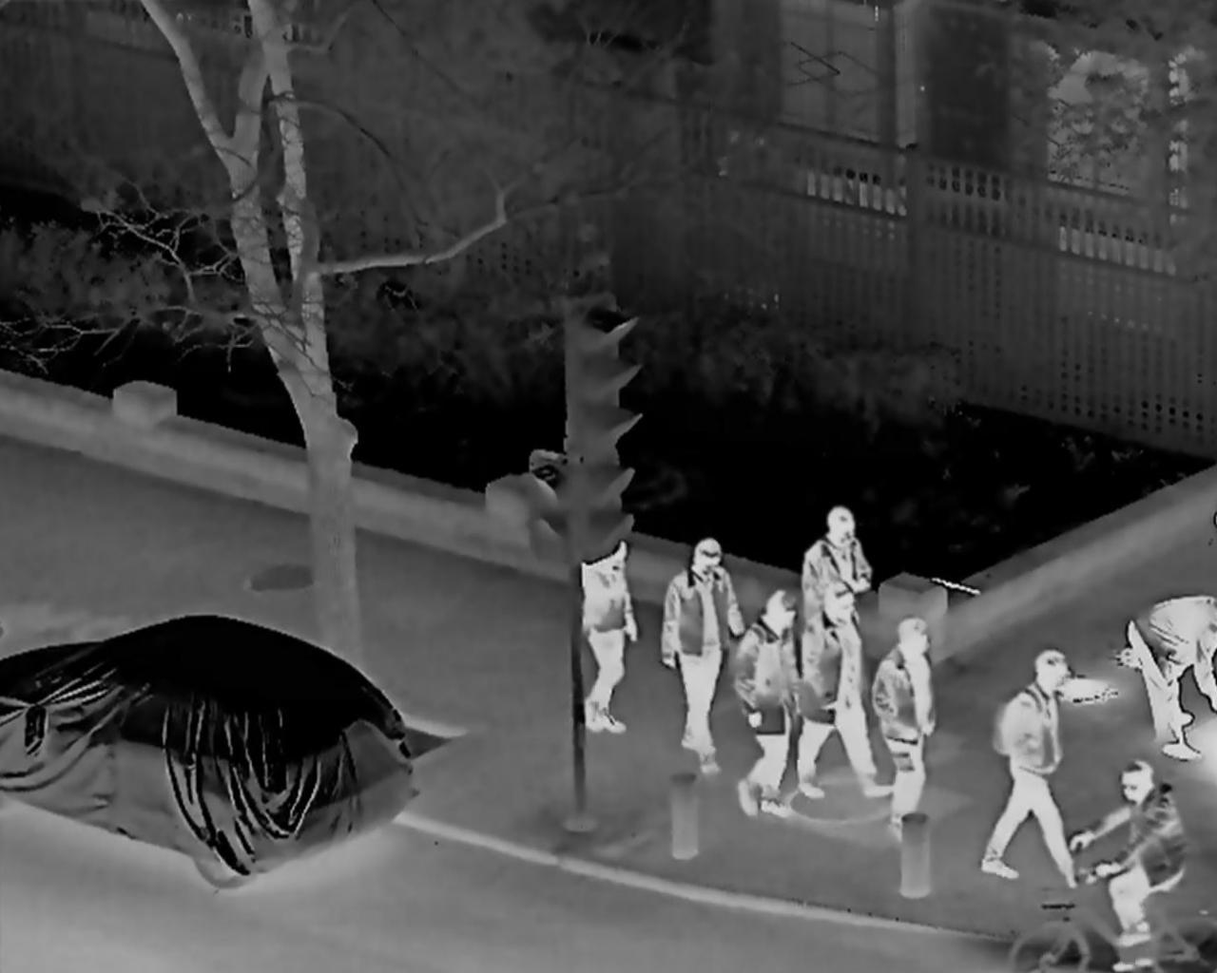person: (984, 657, 1094, 892), (1068, 765, 1185, 970), (661, 533, 745, 773), (799, 592, 886, 801), (799, 506, 875, 719), (1122, 589, 1217, 758), (735, 588, 803, 815), (878, 621, 942, 844), (570, 519, 636, 734)
